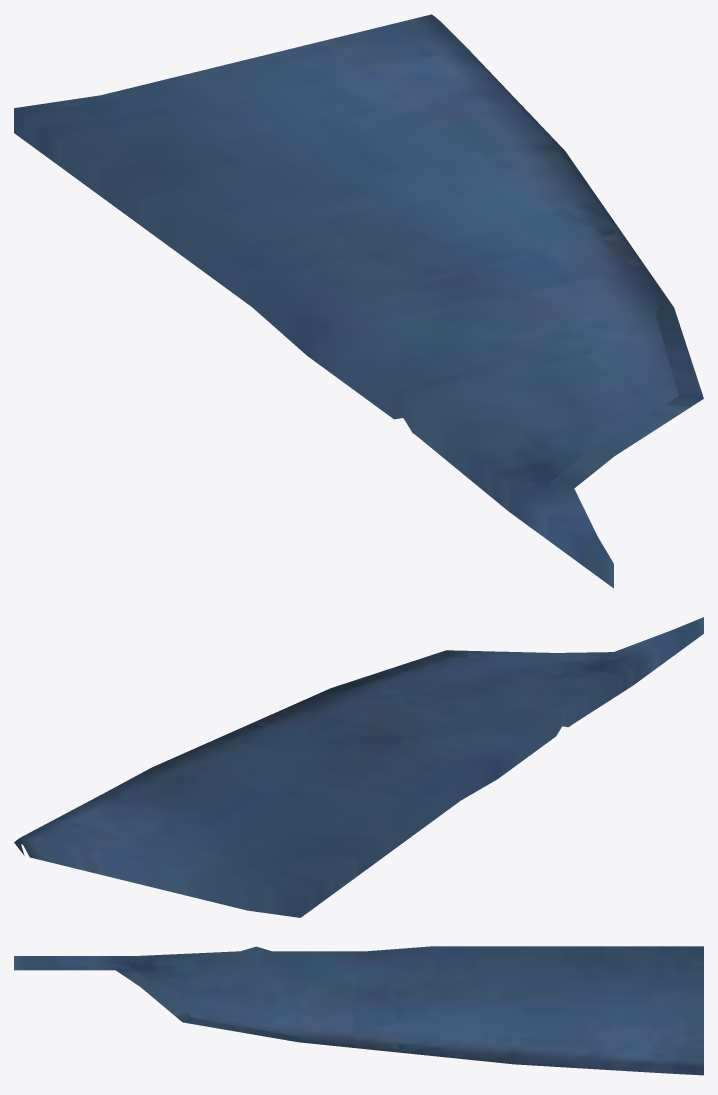
The picture shows the model from 3 angles, top to bottom: view 1: azimuth 30°, elevation 25°; view 2: azimuth 150°, elevation 25°; view 3: azimuth 270°, elevation 25°; orthographic projection. The views are drawn at different scales.
Visible parts, largest first — view 1: 30436272704370427434_0; view 2: 30436272704370427434_0; view 3: 30436272704370427434_0.
Part boxes in pixels (<box>): 30436272704370427434_0: <box>14,14,703,588</box>; 30436272704370427434_0: <box>14,617,703,917</box>; 30436272704370427434_0: <box>14,946,703,1075</box>.
Bounding box in the file's own units: 8.28 × 0.7717 × 20.21.
Materials: 1 (1 with a texture image).
